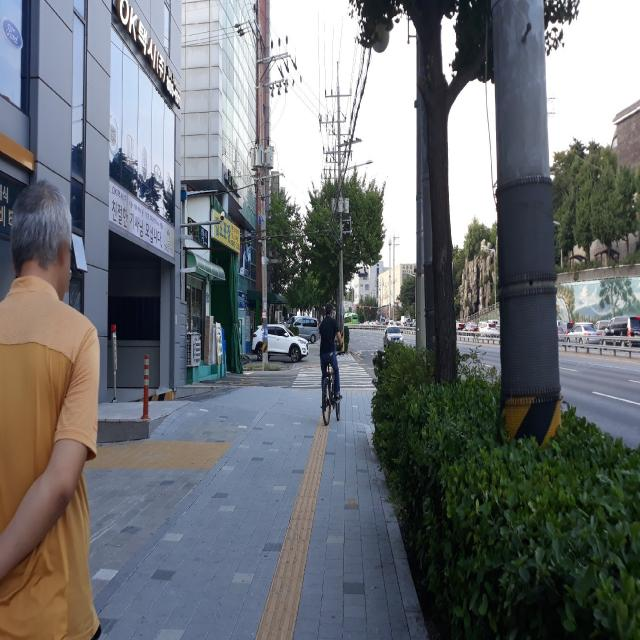횡단보도: (291, 362, 375, 388)
